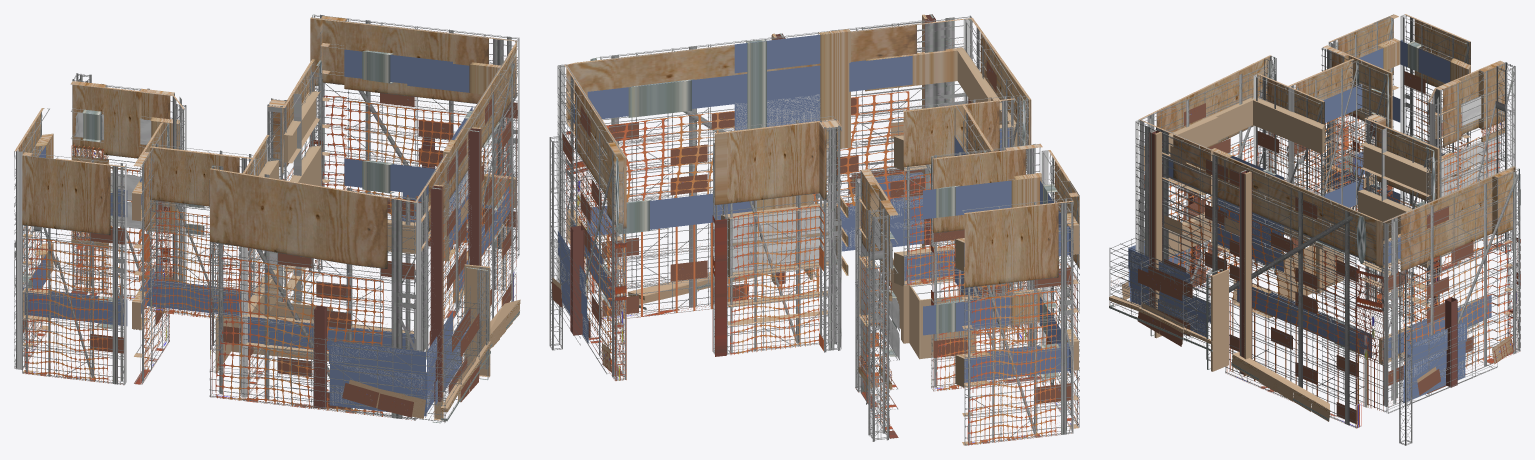
The model's file is tower_construction_walls.dae.
3 renders of one model, left to right at view 1: azimuth 30°, elevation 25°; view 2: azimuth 150°, elevation 25°; view 3: azimuth 270°, elevation 25°, orthographic. The views are drawn at different scales.
Parts seen in each view (by area): view 1: Colmesh-1, tower_construction_walls_a500, tower_construction_walls_a250; view 2: Colmesh-1, tower_construction_walls_a500, tower_construction_walls_a250; view 3: Colmesh-1, tower_construction_walls_a500, tower_construction_walls_a250.
Part boxes in pixels (x1,y1,x2,y2): Colmesh-1: (14,14,520,423); tower_construction_walls_a500: (14,14,519,422); tower_construction_walls_a250: (23,49,519,418); Colmesh-1: (557,14,1079,445); tower_construction_walls_a500: (549,15,1079,445); tower_construction_walls_a250: (551,14,1071,403); Colmesh-1: (1109,14,1520,428); tower_construction_walls_a500: (1109,15,1520,445); tower_construction_walls_a250: (1122,40,1491,423).
Size of the model in its own units: 66.58 by 55.14 by 34.17.
Materials: 2 (1 with a texture image).
